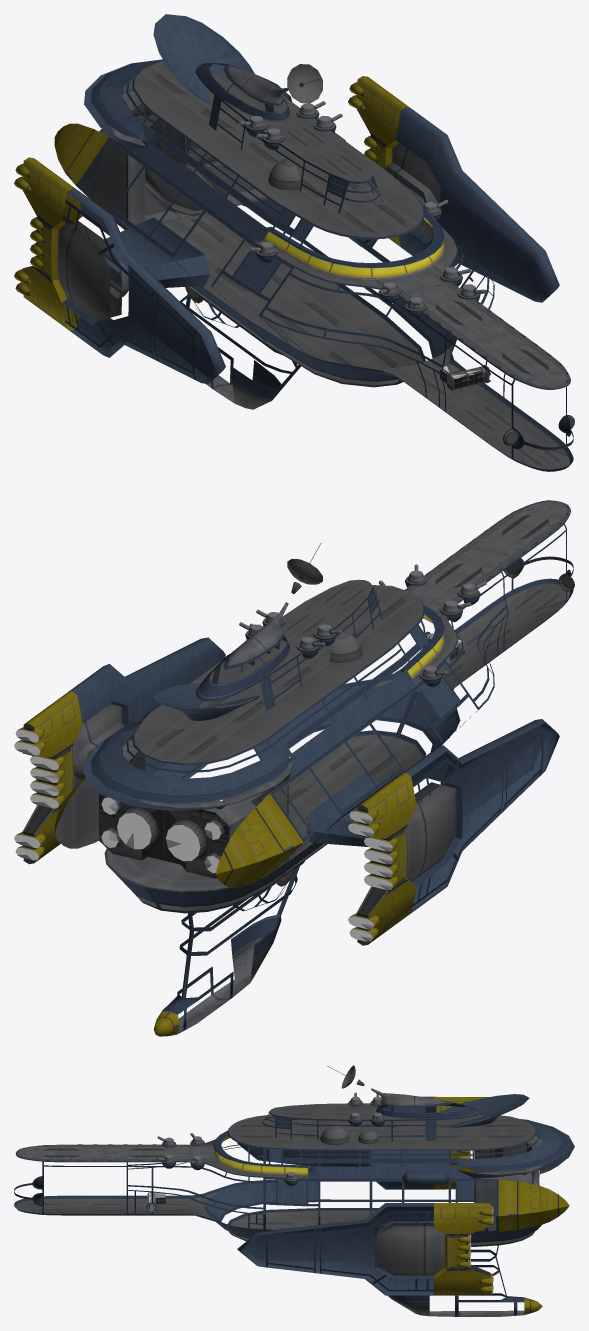
File: stg310_11.obj
The picture shows the model from 3 angles, top to bottom: view 1: azimuth 30°, elevation 25°; view 2: azimuth 150°, elevation 25°; view 3: azimuth 270°, elevation 25°; orthographic projection. The views are drawn at different scales.
Visible parts, largest first — view 1: polygon16, polygon18, polygon17, polygon19, polygon22, polygon24, polygon20, polygon21; view 2: polygon18, polygon16, polygon17, polygon19, polygon22, polygon23, polygon24, polygon21; view 3: polygon18, polygon17, polygon16, polygon22, polygon19, polygon24, polygon21, polygon20, polygon25.
Part boxes in pixels (x1,y1,x2,y2): polygon16: (134,61,569,469); polygon18: (67,14,559,384); polygon17: (62,59,573,471); polygon19: (23,66,574,445); polygon22: (14,76,410,330); polygon24: (388,270,567,387); polygon20: (263,217,445,279); polygon21: (239,101,486,310); polygon18: (67,582,559,912); polygon16: (134,507,569,911); polygon17: (90,508,573,1030); polygon19: (22,562,574,1034); polygon22: (16,691,416,1036); polygon23: (14,730,392,941); polygon24: (411,501,567,611); polygon21: (239,564,486,678); polygon18: (162,1094,574,1295); polygon17: (14,1099,569,1316); polygon16: (16,1065,535,1245); polygon22: (433,1096,569,1314); polygon19: (42,1079,565,1316); polygon24: (18,1147,216,1158); polygon21: (157,1092,383,1180); polygon20: (214,1135,308,1175); polygon25: (16,1144,191,1161).
Size of the model in its own units: 3303 by 3320 by 6783.
